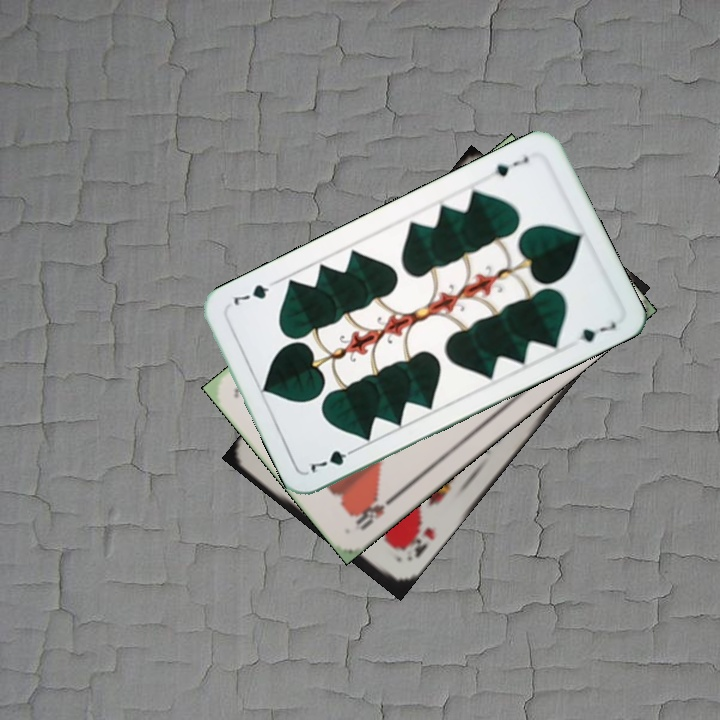G7: (303, 443, 361, 476), (490, 152, 532, 180)
HK: (397, 518, 437, 564)
HO: (351, 491, 400, 533)
